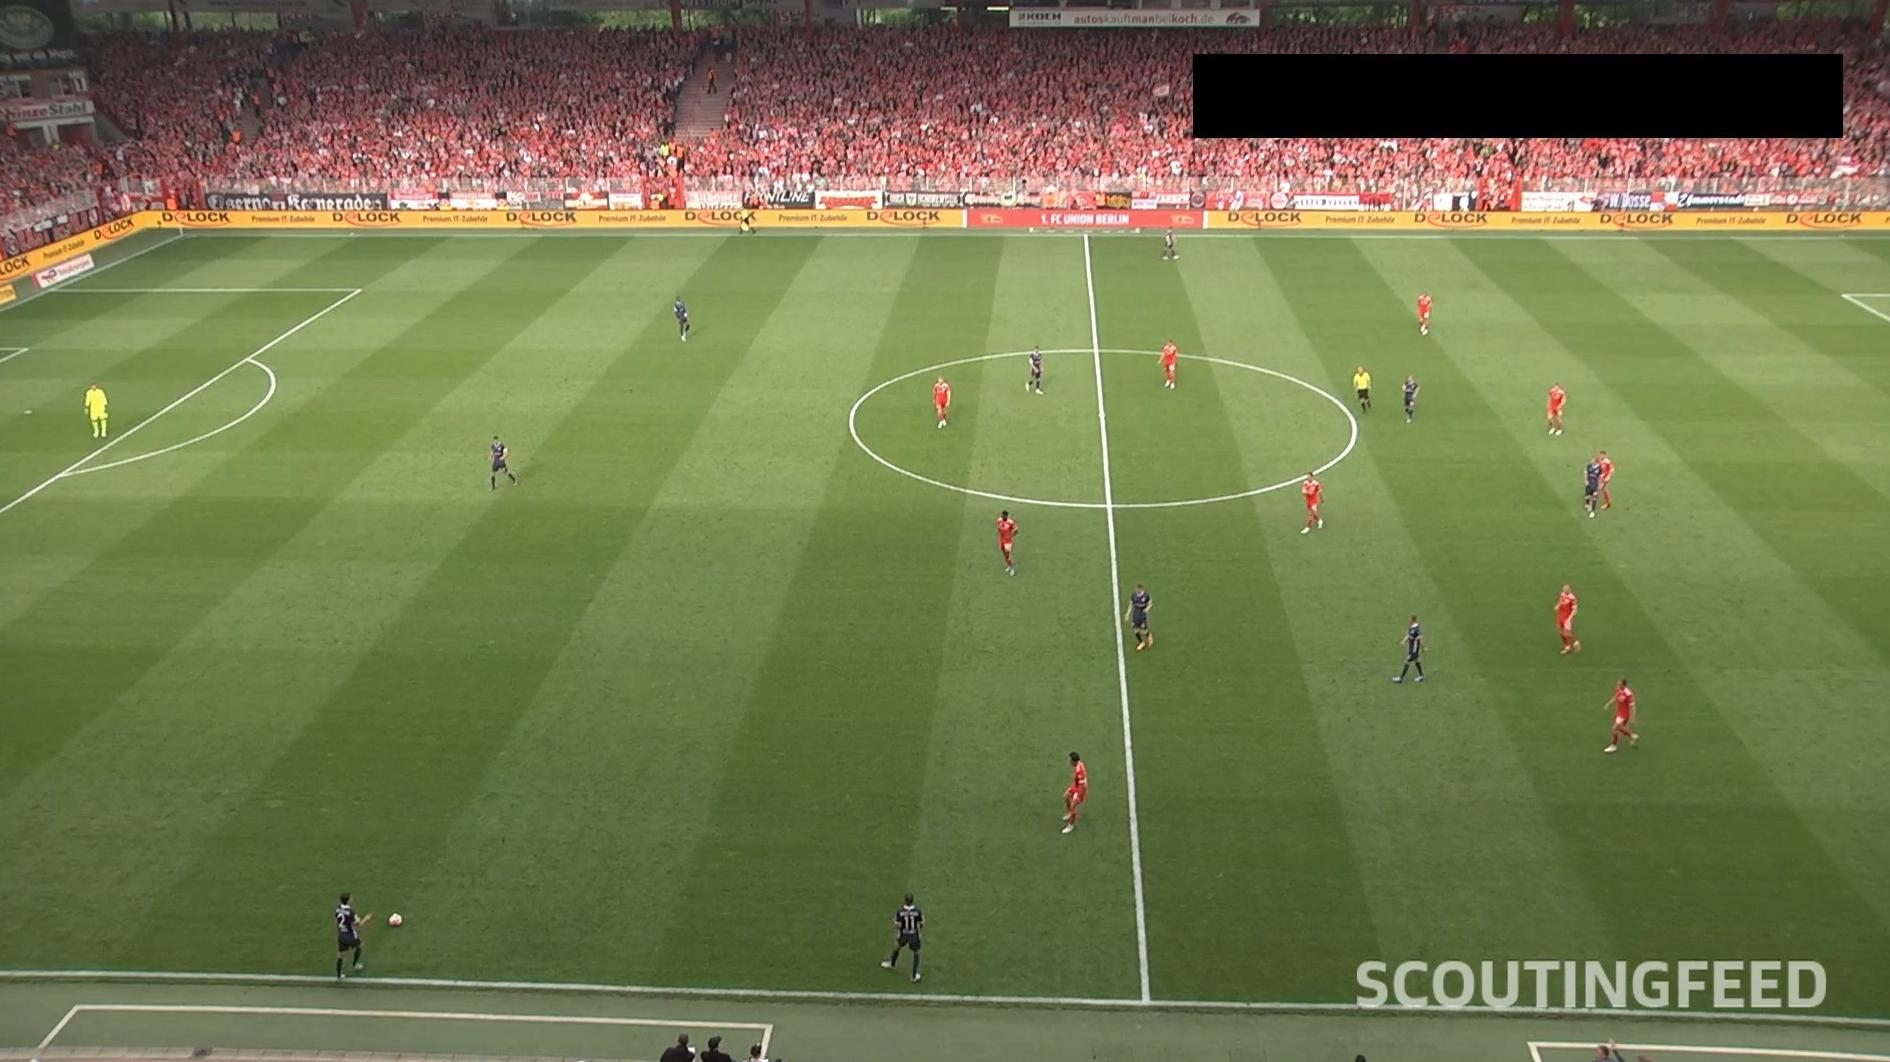ball: (387, 911, 404, 928)
